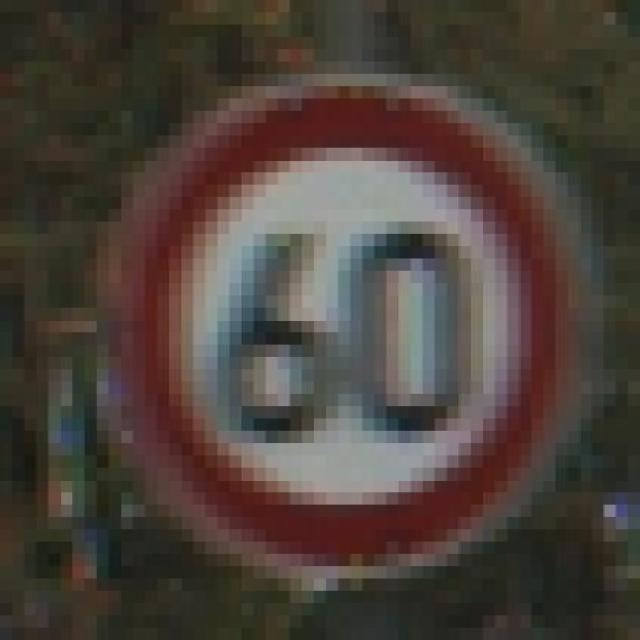forb_speed_over_60: (125, 83, 564, 565)
